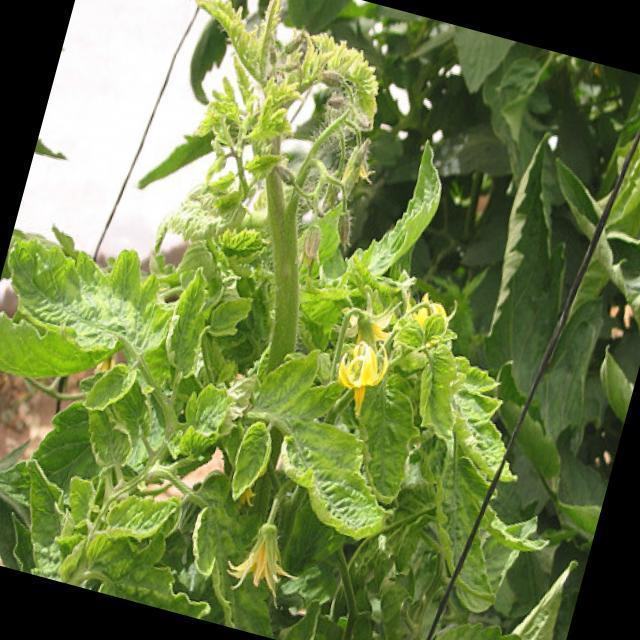Yellow Curl Virus: (259, 416, 405, 550), (407, 460, 526, 620), (402, 342, 481, 452), (155, 261, 222, 379), (96, 481, 182, 558), (222, 414, 278, 511), (76, 352, 140, 419), (182, 502, 226, 577)
